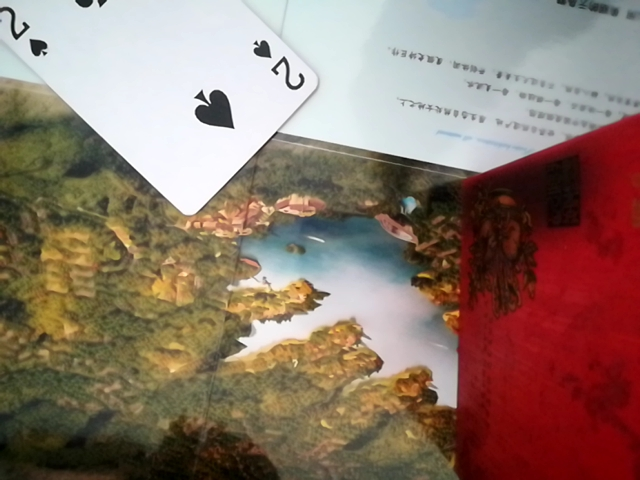ht 2: (0, 2, 314, 218)
